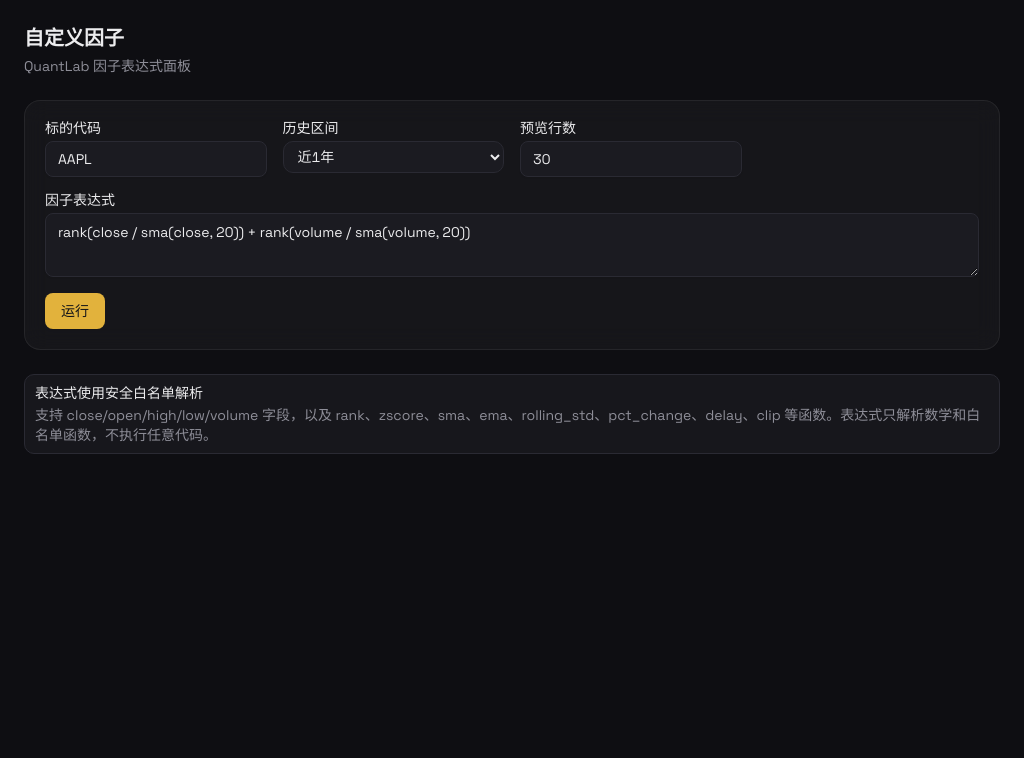
FactorLabPage › renders latest_value stat after a successful run
The image size is (1024, 758).
Click the button "运行".
click(75, 311)  # box [45,293,105,329]
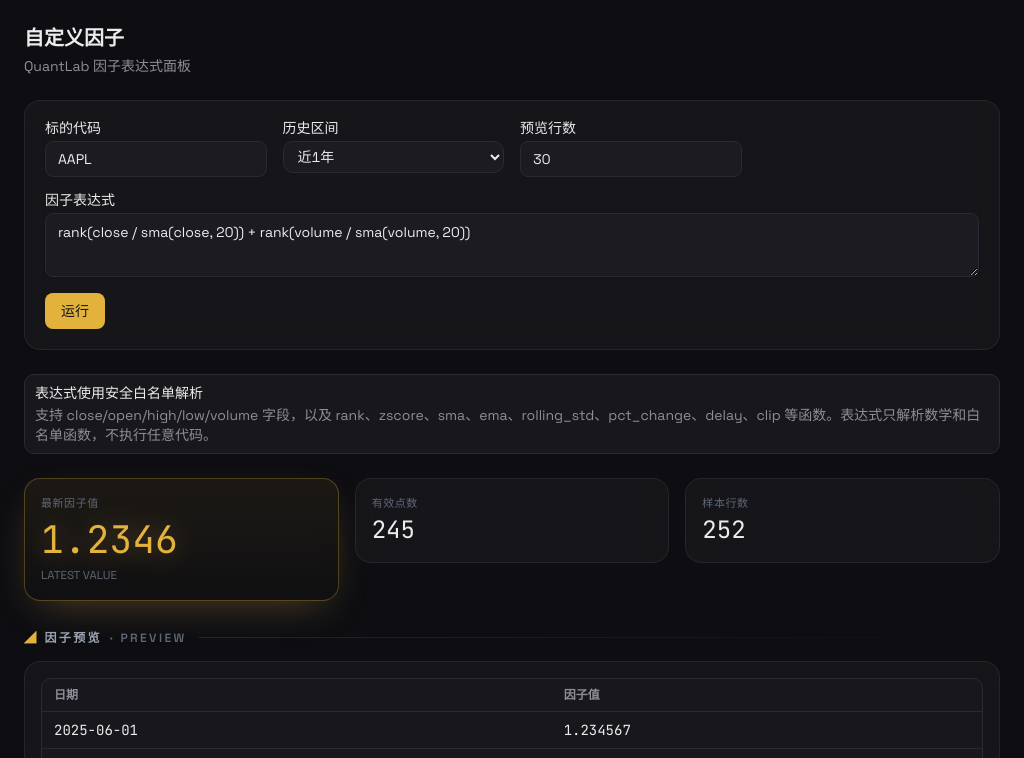
Now the text "最新因子值" is shown, box [41,496,99,510]
Now the text "1.2346" is shown, box [41,514,178,564]
